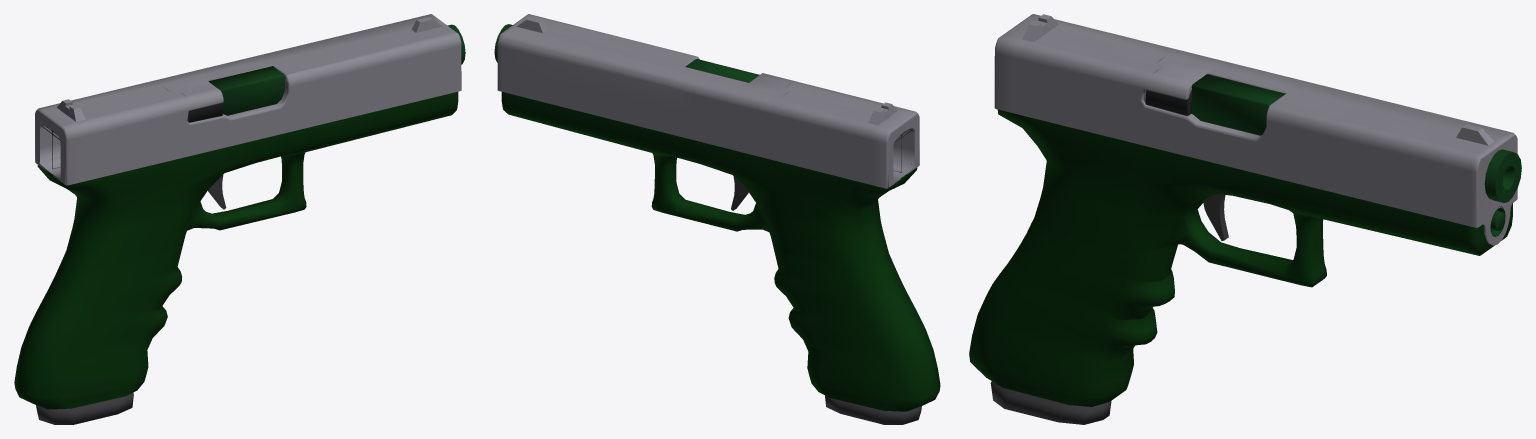
File: Glock .fbx
The picture shows the model from 3 angles, left to right: view 1: azimuth 30°, elevation 25°; view 2: azimuth 150°, elevation 25°; view 3: azimuth 330°, elevation 25°; orthographic projection. The views are drawn at different scales.
Visible parts, largest first — view 1: Pistol, Pistol.009, Pistol.003, Pistol.004, Pistol.007; view 2: Pistol, Pistol.009, Pistol.004, Pistol.003; view 3: Pistol, Pistol.009, Pistol.003, Pistol.004, Pistol.007, Pistol.002.
Boxes of the visible parts, x1,y1,x2,y2 form: Pistol: [14, 92, 458, 409]; Pistol.009: [35, 14, 461, 185]; Pistol.003: [208, 24, 465, 115]; Pistol.004: [36, 392, 133, 424]; Pistol.007: [187, 103, 222, 122]; Pistol: [501, 92, 940, 411]; Pistol.009: [497, 14, 919, 188]; Pistol.004: [825, 395, 921, 424]; Pistol.003: [494, 24, 759, 82]; Pistol: [969, 109, 1512, 406]; Pistol.009: [994, 14, 1517, 245]; Pistol.003: [1191, 74, 1521, 235]; Pistol.004: [990, 381, 1111, 424]; Pistol.007: [1145, 90, 1191, 115]; Pistol.002: [1203, 194, 1228, 240].
Size of the model in its own units: 1302 by 877 by 183.
Materials: 1 (1 with a texture image).
